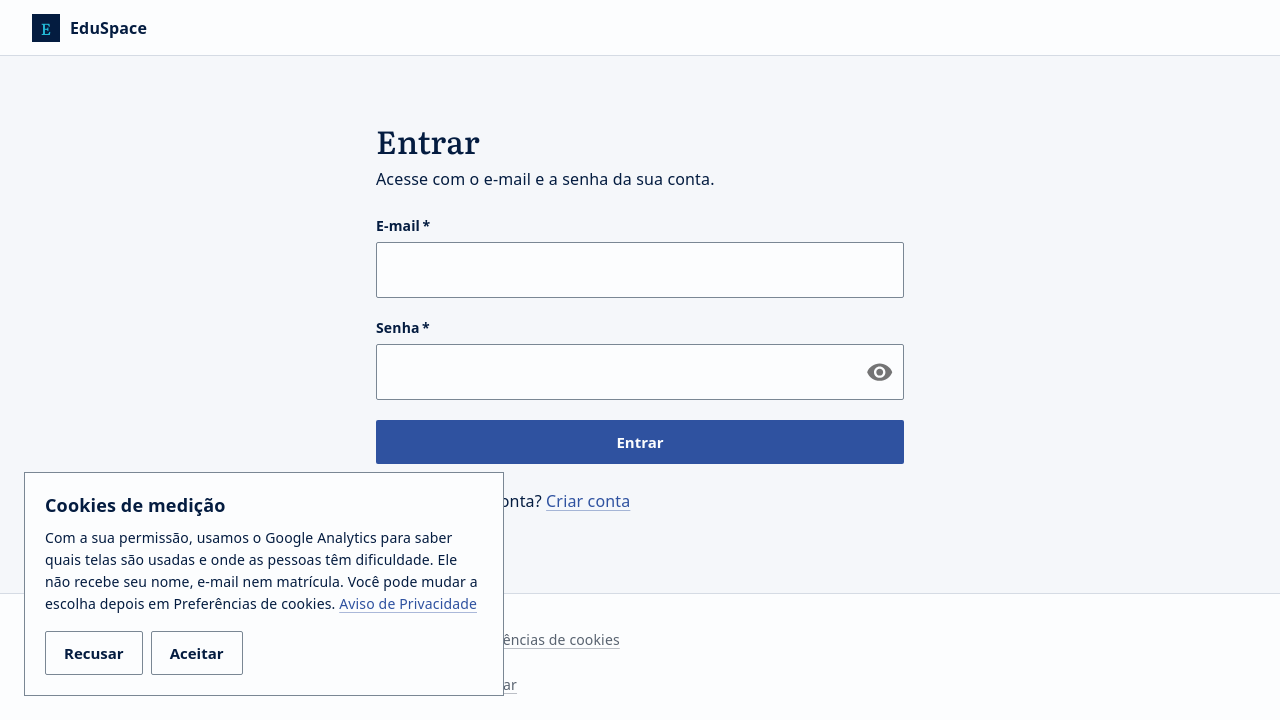
Test case: login › shows the friendly server message on wrong credentials
Type "lucas@umj.edu.br" into the field labelled "E-mail *" at x=640, y=270, box 376,242 -> 904,298
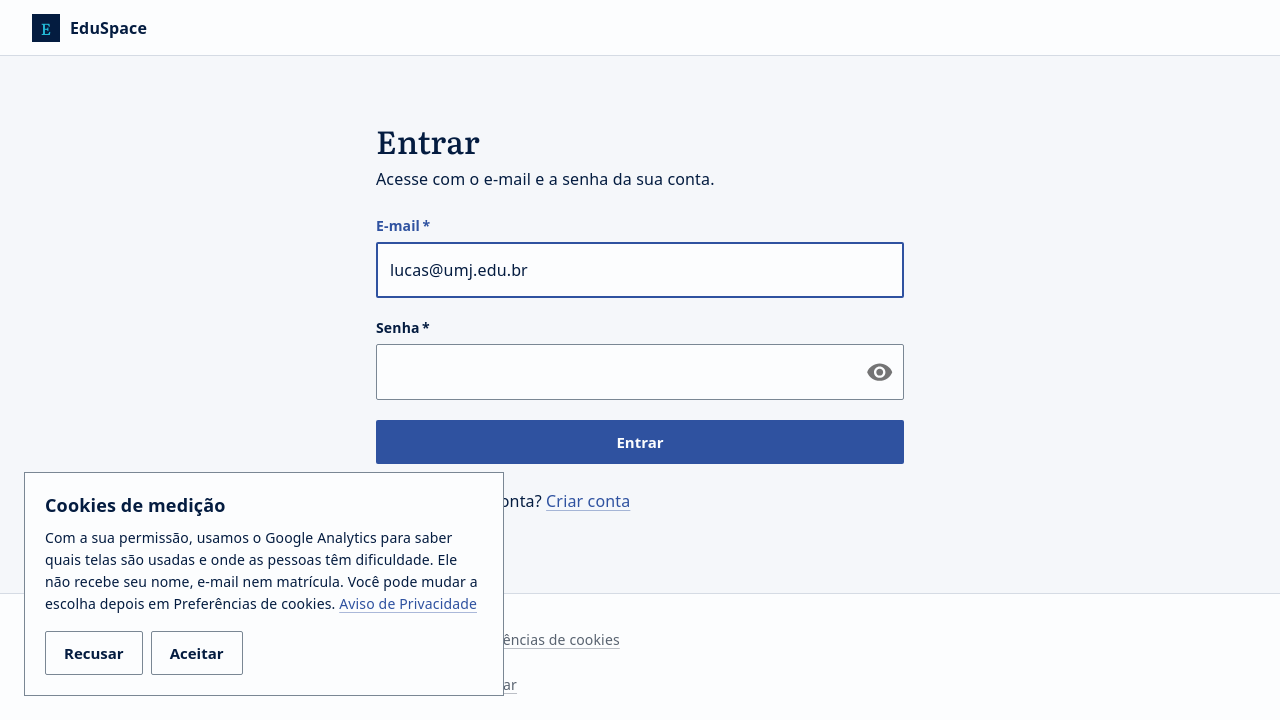
Type "Errada123" into the password field labelled "Senha *" at x=613, y=372, box 376,344 -> 850,400
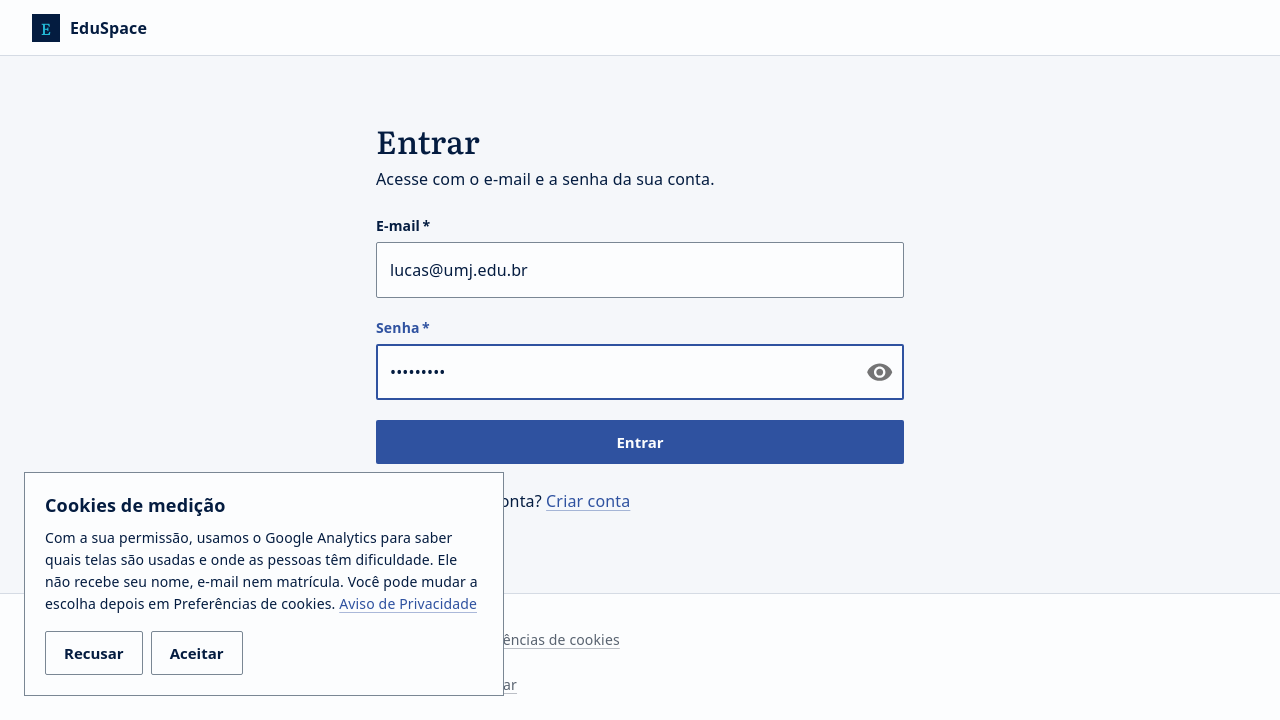
Click the button "Entrar" at x=640, y=442, box 376,420 -> 904,464
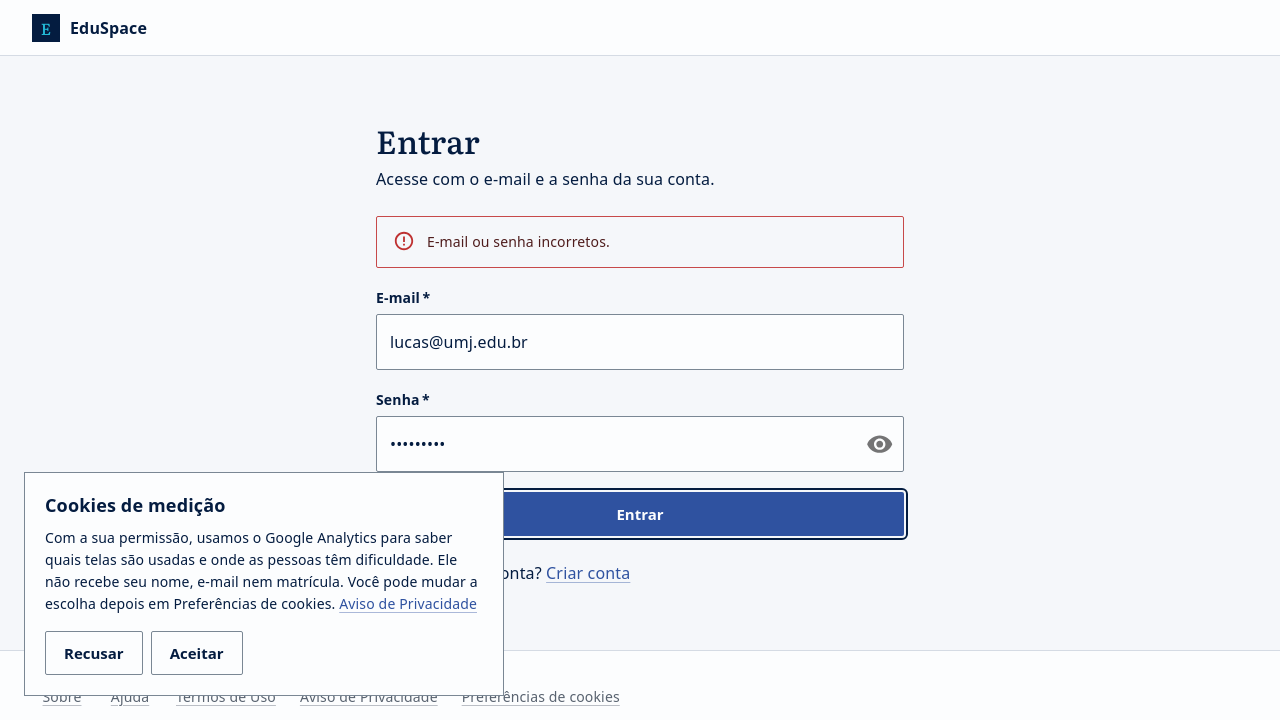
Check: the heading "Entrar" is shown, box 376,116 -> 480,164
Check: the message reads "E-mail ou senha incorretos.", box 427,232 -> 610,251
